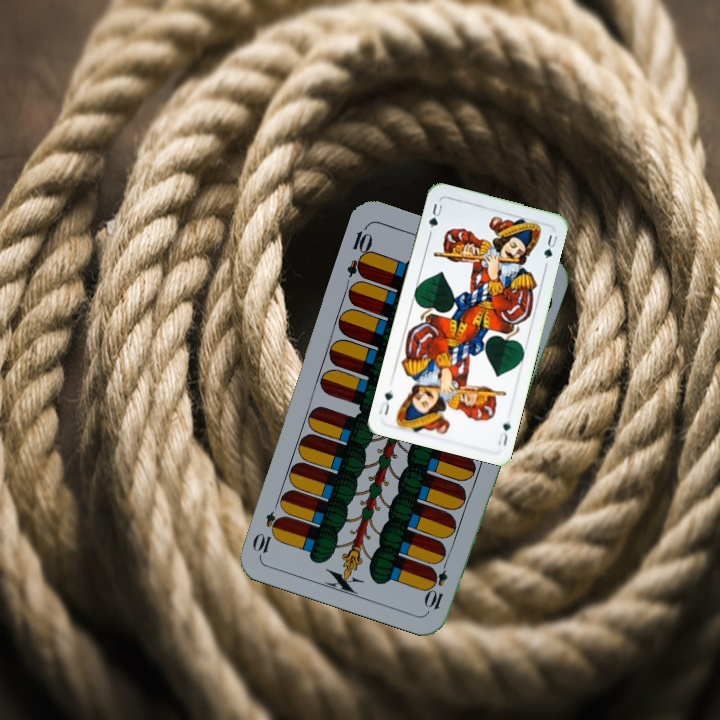E10: (343, 221, 376, 281), (423, 554, 451, 612)
GU: (425, 199, 446, 237), (493, 419, 513, 449)
